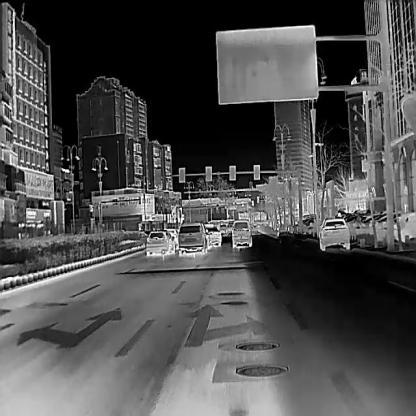car: (319, 216, 350, 250), (384, 209, 416, 241), (178, 220, 207, 253), (367, 210, 400, 239), (146, 229, 174, 255), (232, 219, 252, 247), (205, 227, 221, 246)
